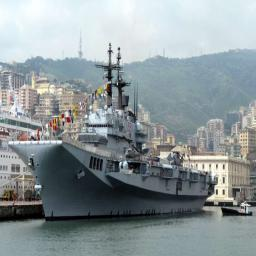Portanaves: (8, 37, 221, 226)
